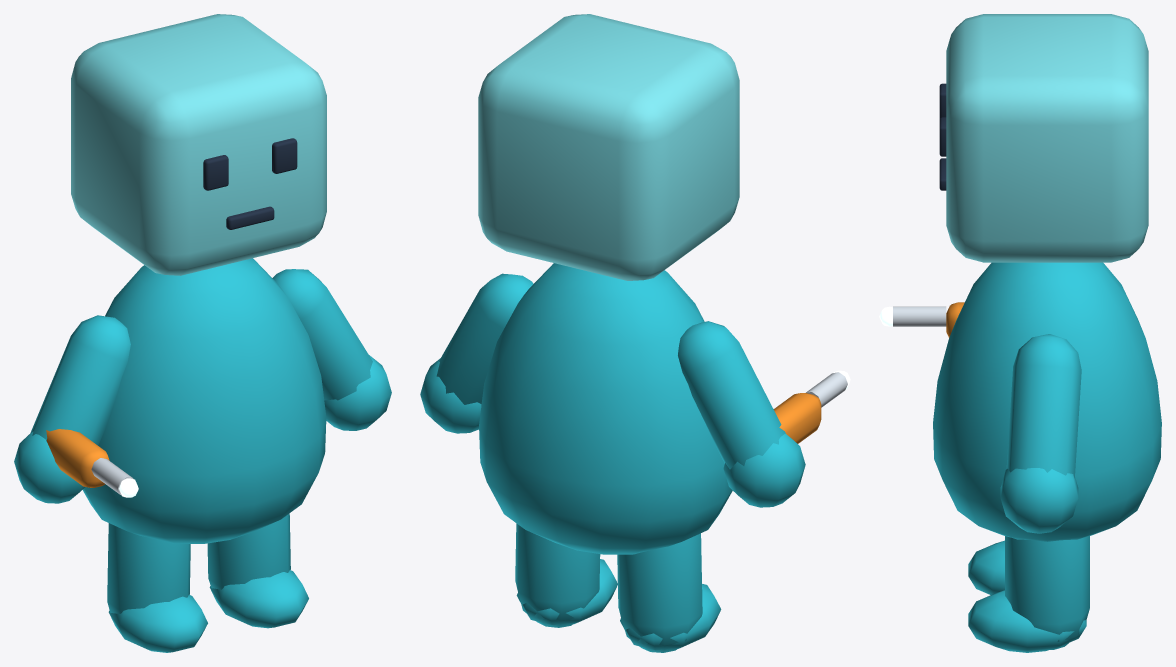
File: PixelArcher.fbx
3 views of the same model, side by side, from view 1: azimuth 30°, elevation 25°; view 2: azimuth 150°, elevation 25°; view 3: azimuth 270°, elevation 25° (orthographic). The views are drawn at different scales.
Visible parts, largest first — view 1: Head, Torso, ArmR, LegR, ArmL, LegL; view 2: Head, Torso, ArmR, LegR, ArmL, LegL; view 3: Head, Torso, ArmL, LegL, ArmR, LegR.
Boxes of the visible parts, x1=… form: Head: x1=71, y1=14, x2=326, y2=275; Torso: x1=82, y1=258, x2=326, y2=543; ArmR: x1=14, y1=315, x2=138, y2=503; LegR: x1=107, y1=523, x2=207, y2=652; ArmL: x1=272, y1=269, x2=391, y2=430; LegL: x1=207, y1=513, x2=308, y2=628; Head: x1=478, y1=14, x2=739, y2=280; Torso: x1=479, y1=263, x2=732, y2=554; ArmR: x1=678, y1=321, x2=850, y2=507; LegR: x1=617, y1=533, x2=721, y2=652; ArmL: x1=420, y1=273, x2=533, y2=433; LegL: x1=515, y1=523, x2=617, y2=627; Head: x1=939, y1=14, x2=1148, y2=262; Torso: x1=933, y1=262, x2=1161, y2=541; ArmL: x1=1000, y1=334, x2=1081, y2=533; LegL: x1=968, y1=536, x2=1089, y2=652; ArmR: x1=879, y1=302, x2=964, y2=337; LegR: x1=968, y1=540, x2=1004, y2=594.
Bounding box in the file's own units: 0.5784 × 0.8586 × 0.3825.
